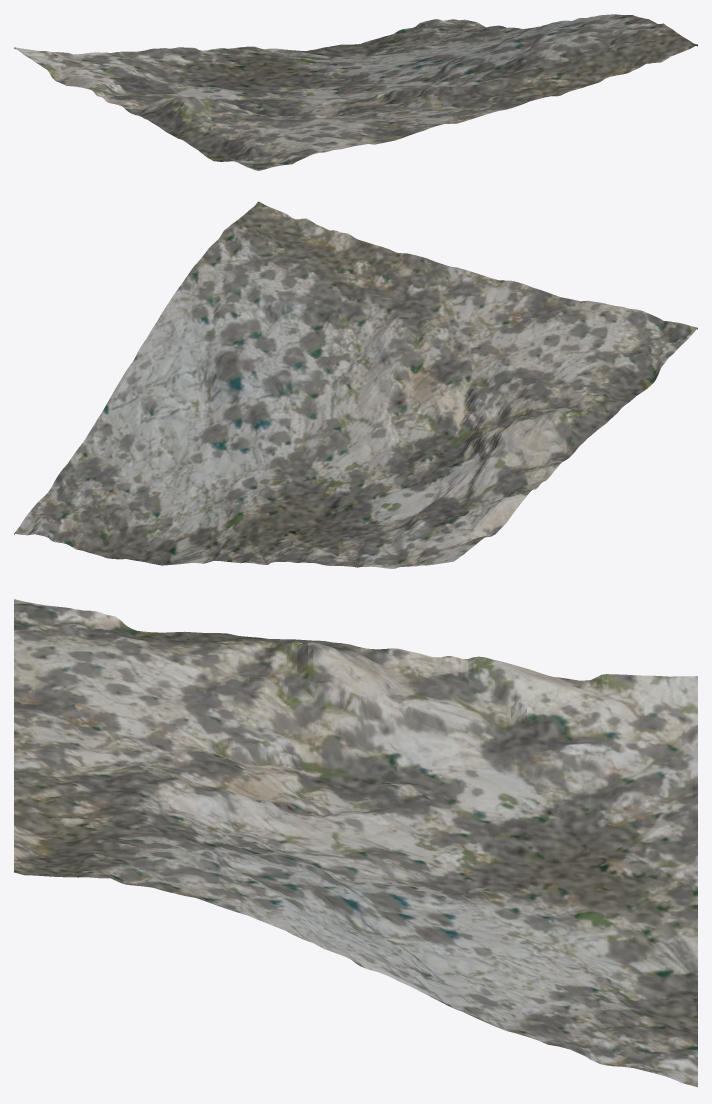
3 renders of one model, top to bottom at view 1: azimuth 30°, elevation 25°; view 2: azimuth 150°, elevation 25°; view 3: azimuth 270°, elevation 25°, orthographic. The views are drawn at different scales.
Bounding box in the file's own units: 250 × 85.51 × 241.
1 material, 1 textured.
